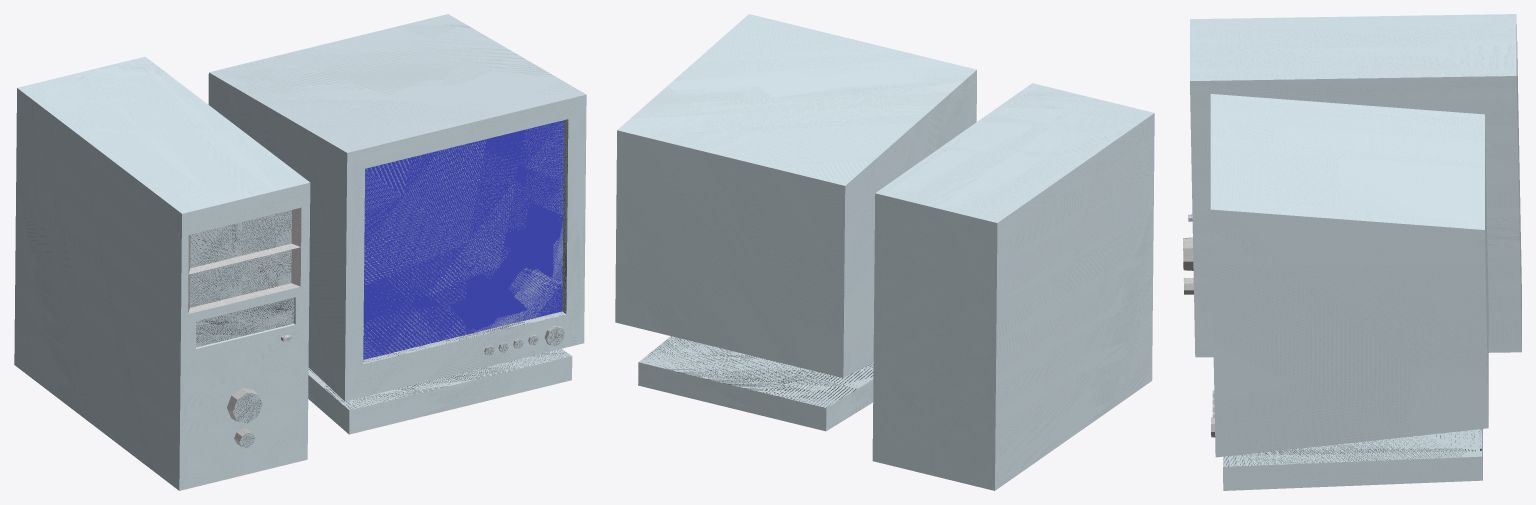
Rendered from (YnZp)PcLowPoly.fbx.
The picture shows the model from 3 angles, left to right: view 1: azimuth 30°, elevation 25°; view 2: azimuth 150°, elevation 25°; view 3: azimuth 270°, elevation 25°; orthographic projection. The views are drawn at different scales.
Parts seen in each view (by area): view 1: Botão PC; view 2: Botão PC; view 3: Botão PC.
Boxes of the visible parts, left/top/right/bottom form: Botão PC: left=14, top=14, right=586, bottom=490; Botão PC: left=615, top=14, right=1154, bottom=490; Botão PC: left=1183, top=14, right=1521, bottom=490.
Size of the model in its own units: 647 by 462 by 431.
